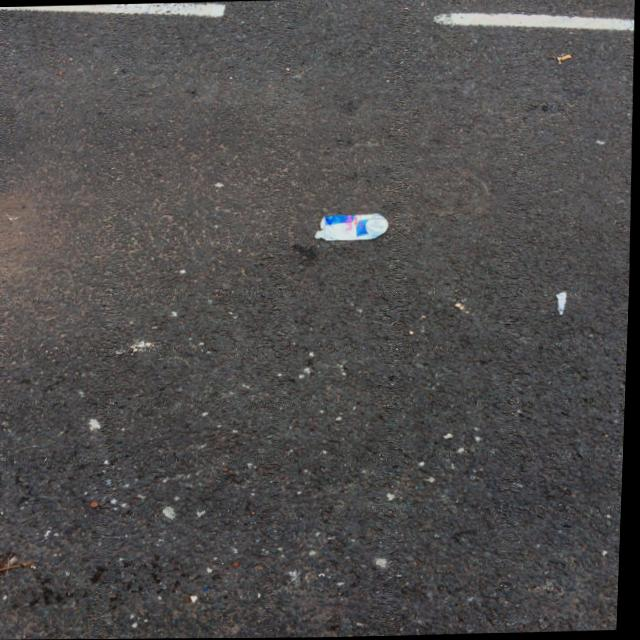Can-Metal: (309, 209, 393, 244)
